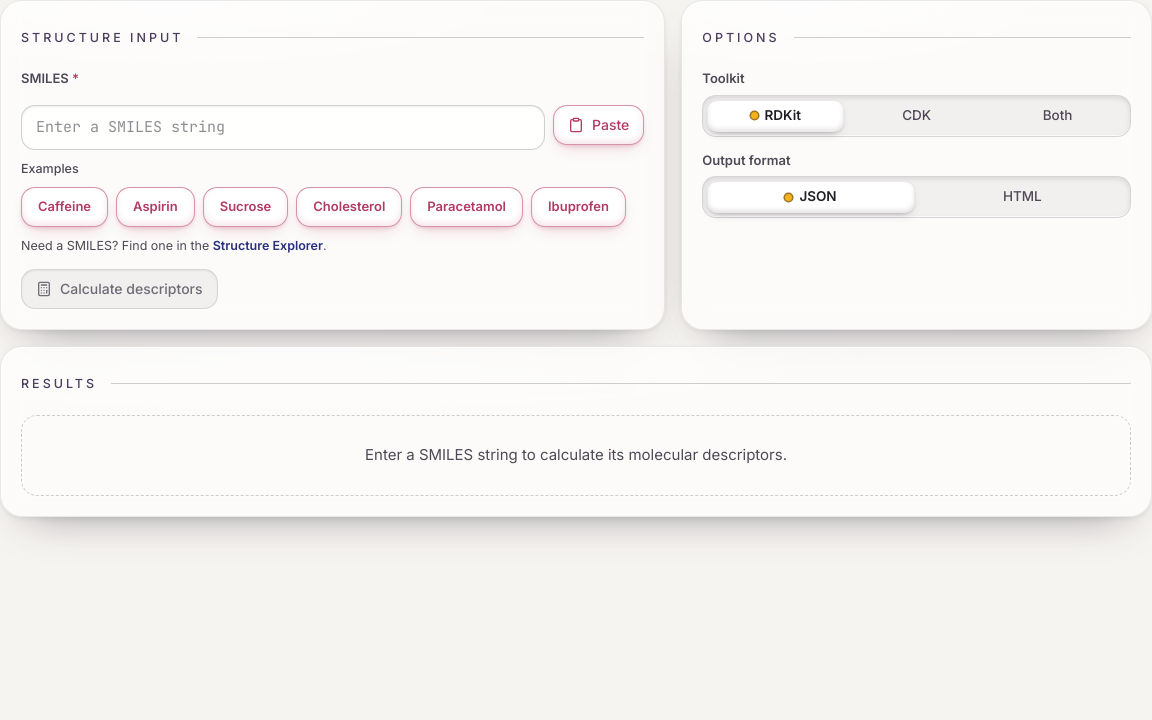
Test: DescriptorsView (bento) › shows JSON output as copyable, pretty-printed JSON
This screenshot has width=1152, height=720.
In the field labelled "SMILES *": x=283, y=127 [21,104,545,150], type "CCO"
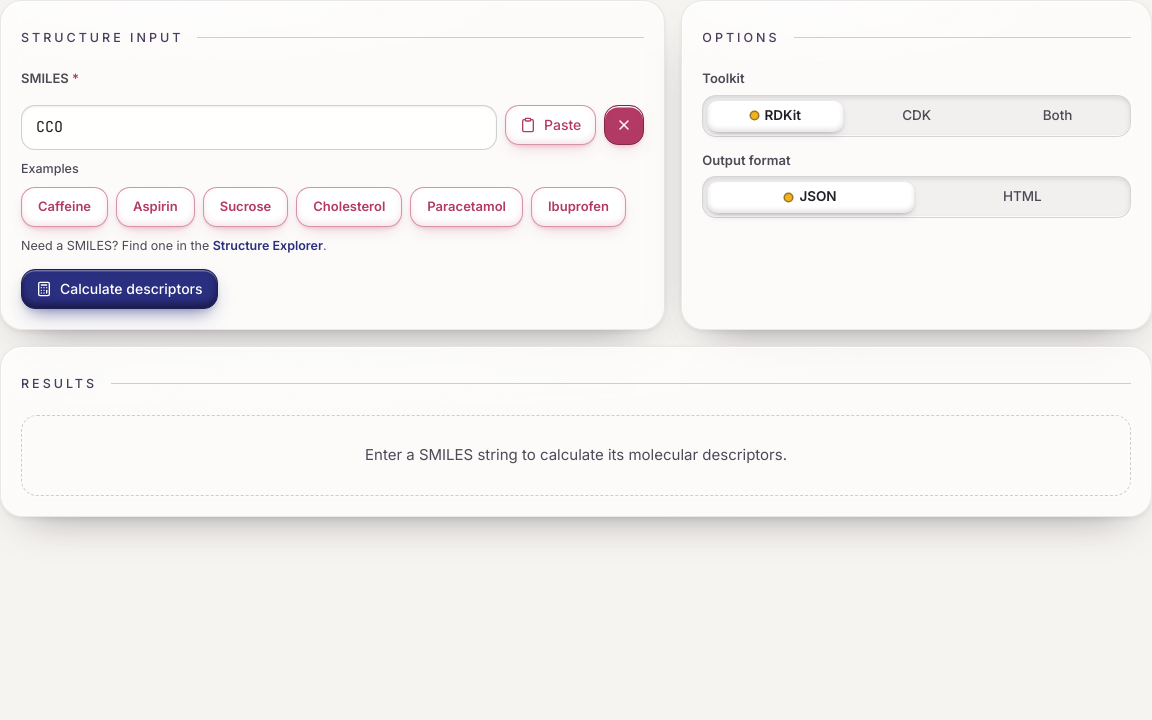
Click the button "Calculate descriptors": x=119, y=289 [21,269,218,309]
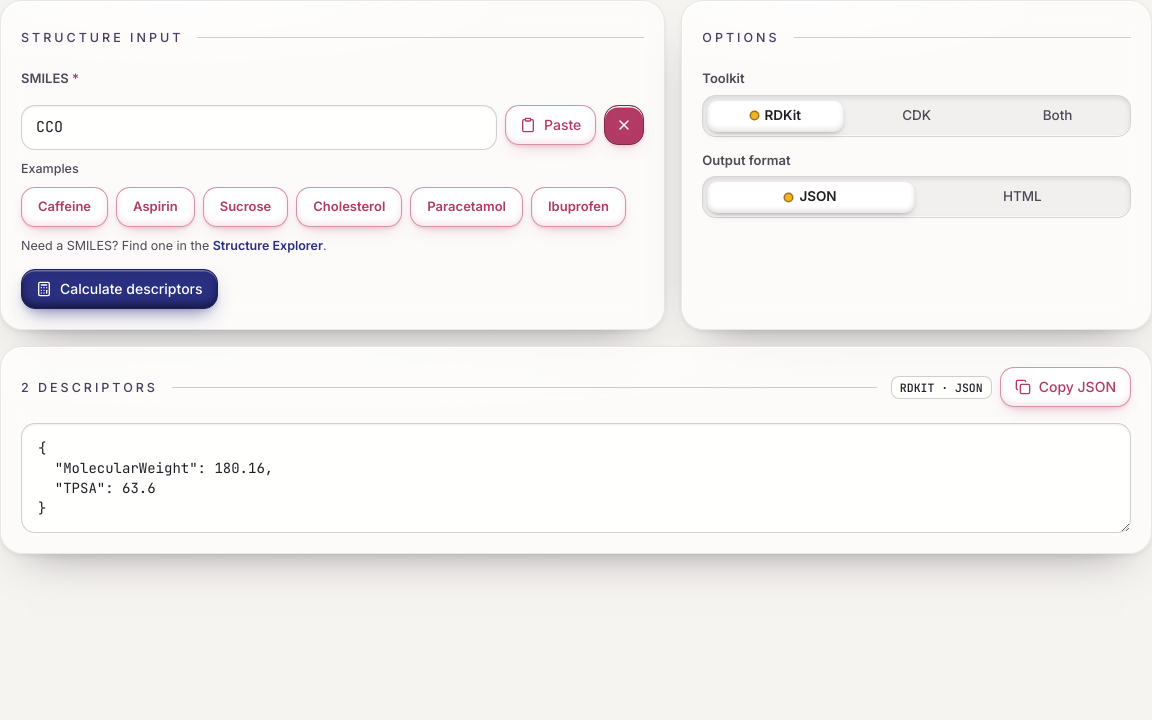
Result: the button "Copy JSON" is shown at [1000,367,1131,407]
